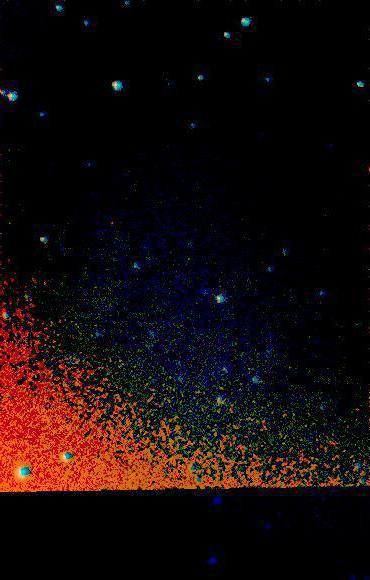star: (176, 252, 206, 282)
